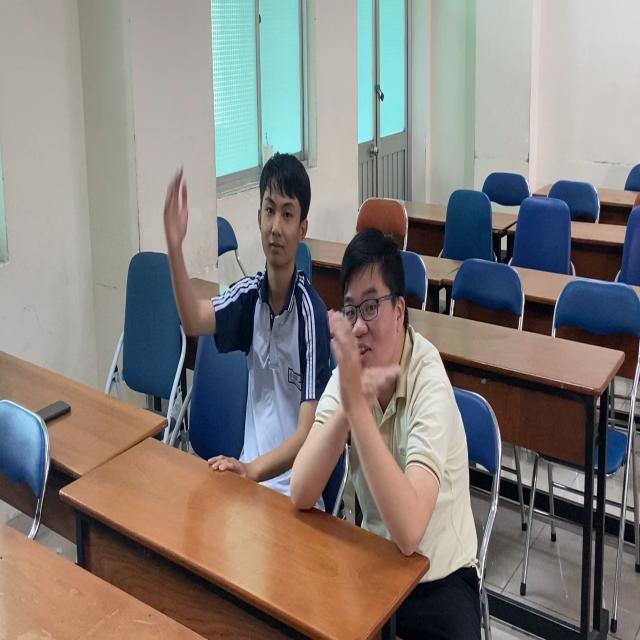raise_hand: (161, 144, 335, 512)
